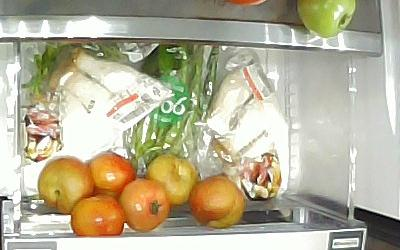prune: (36, 156, 95, 214), (186, 173, 245, 228), (117, 176, 171, 232), (143, 152, 197, 206), (69, 192, 124, 236), (86, 150, 136, 196)
